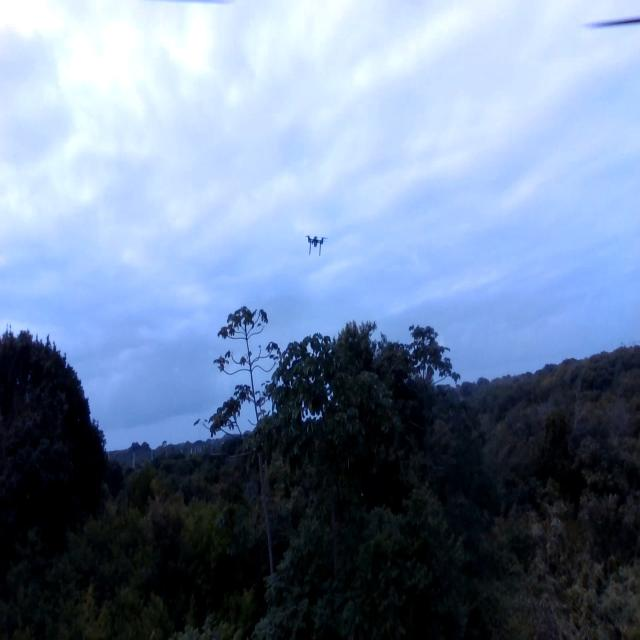-uav-: (305, 225, 329, 258)
